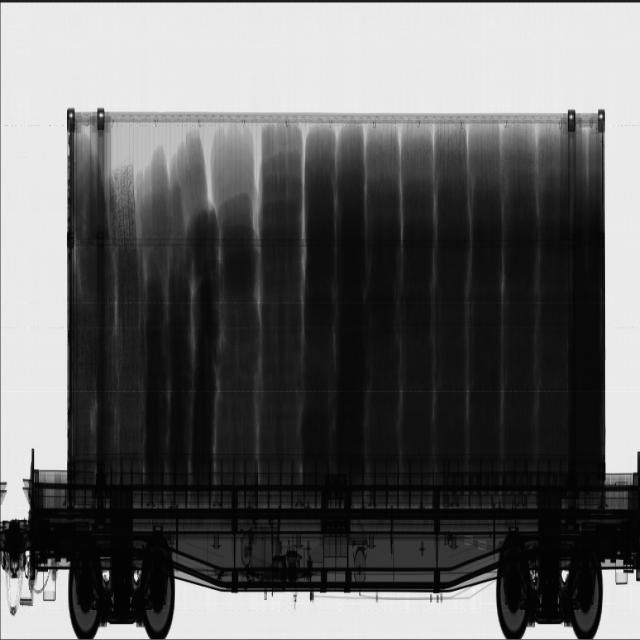textile: (57, 121, 479, 476)
